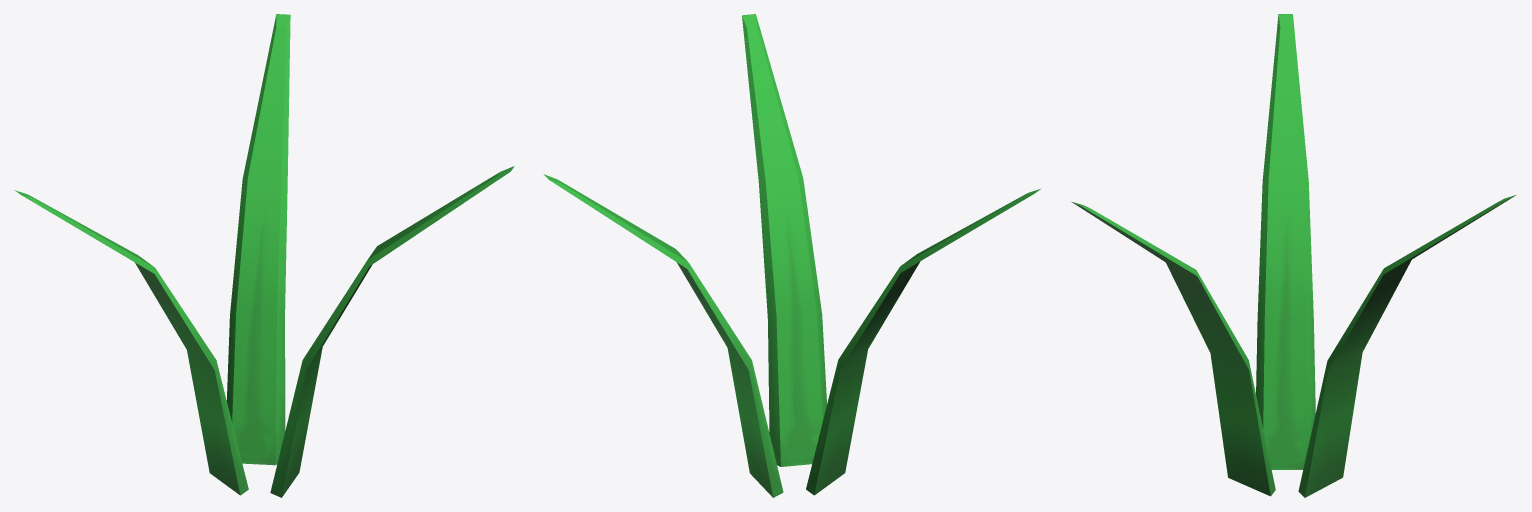
File: o_grassy.fbx
3 renders of one model, left to right at view 1: azimuth 30°, elevation 25°; view 2: azimuth 150°, elevation 25°; view 3: azimuth 270°, elevation 25°, orthographic.
Visible parts, largest first — view 1: pPlane13; view 2: pPlane13; view 3: pPlane13.
Part boxes in pixels (left/top/right/bottom): pPlane13: left=14, top=14, right=514, bottom=497; pPlane13: left=543, top=14, right=1040, bottom=497; pPlane13: left=1071, top=14, right=1516, bottom=497.
Size of the model in its own units: 3.25 by 2.72 by 3.13.
Materials: 1 (1 with a texture image).
